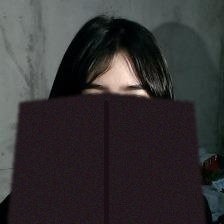Cadar_Niqab: (7, 9, 205, 224)
